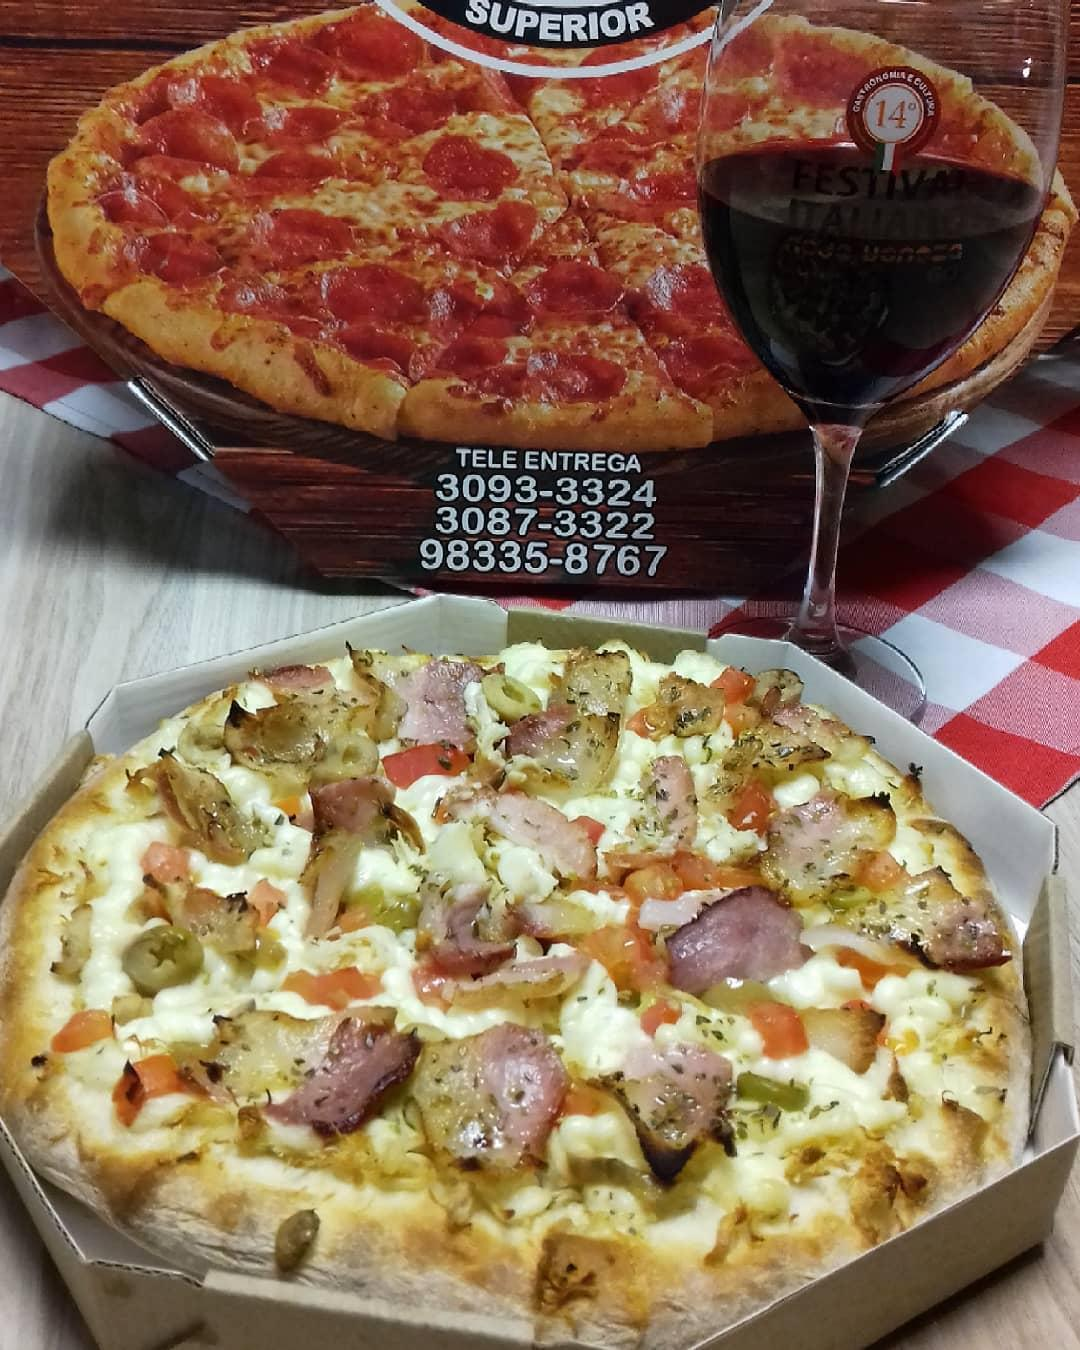Olives: (122, 926, 207, 989), (313, 728, 379, 778), (483, 670, 541, 717)
Pepperoni: (642, 264, 744, 394), (470, 346, 614, 399), (132, 112, 240, 169), (94, 169, 207, 223), (428, 136, 524, 197), (248, 203, 356, 257), (241, 37, 333, 99), (223, 269, 320, 326), (328, 265, 429, 319), (333, 17, 418, 79), (531, 261, 630, 314), (452, 273, 528, 338), (446, 205, 537, 257), (573, 45, 657, 98), (137, 232, 223, 282), (337, 324, 417, 375), (591, 186, 694, 225), (258, 147, 344, 192), (488, 51, 549, 106), (258, 105, 359, 137), (574, 125, 661, 155)
Pizza: (0, 648, 1028, 1304), (47, 0, 1066, 455)
Tomatoes: (618, 848, 734, 897), (118, 1055, 185, 1122), (382, 741, 464, 789), (838, 945, 915, 992), (748, 1000, 807, 1053), (287, 967, 368, 1001), (727, 770, 768, 830), (49, 1011, 118, 1045), (711, 664, 756, 697)
